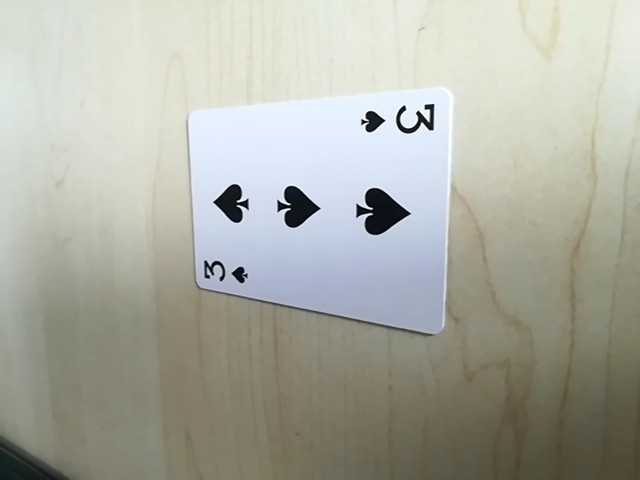ht 3: (357, 96, 439, 143), (198, 256, 253, 290)
